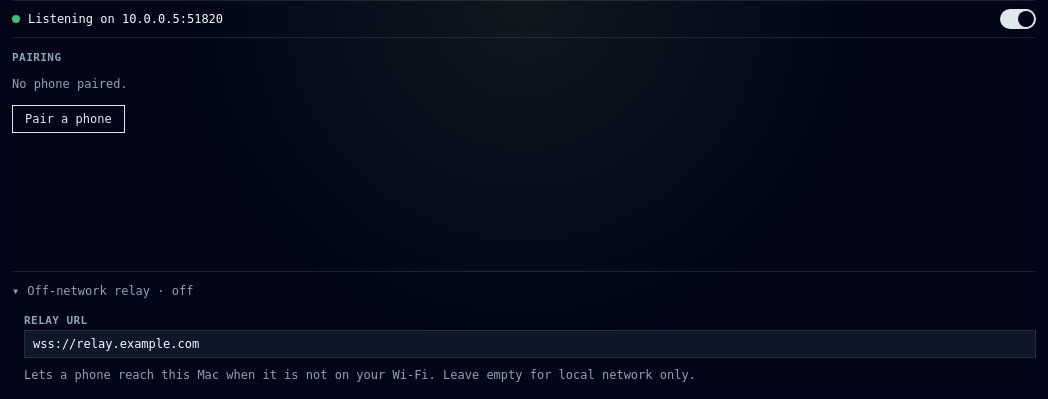
Test: PhoneBridgePanel relay settings › a status change does not reopen a disclosure the user closed
Click the heading "Off-network relay · off" at [110, 291], box [27,284,193,298]
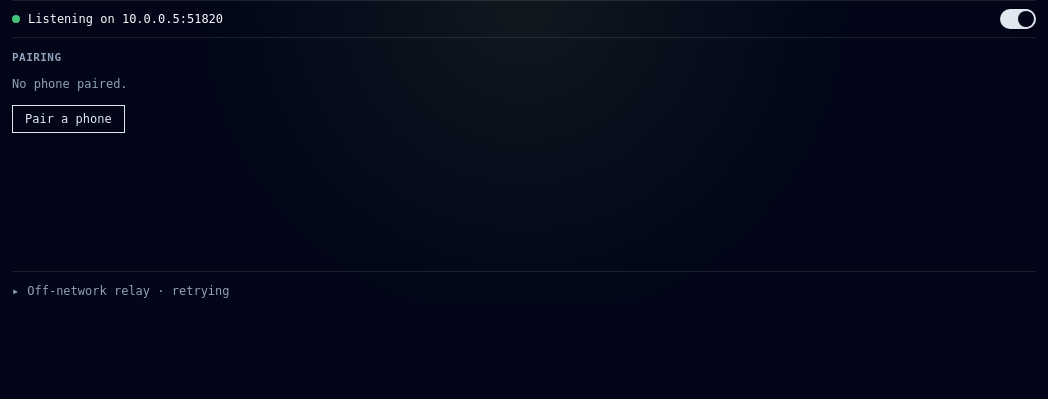
Expected: the heading "Off-network relay · retrying" is shown, [27,284,230,298]
